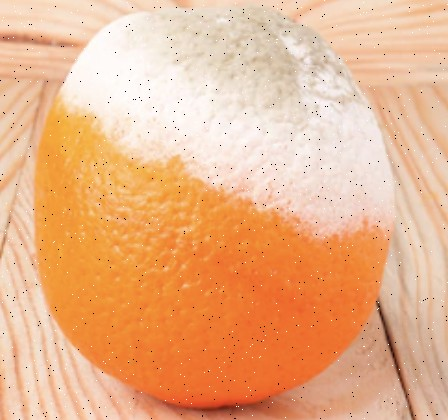rotten_orange: (34, 8, 395, 409)
